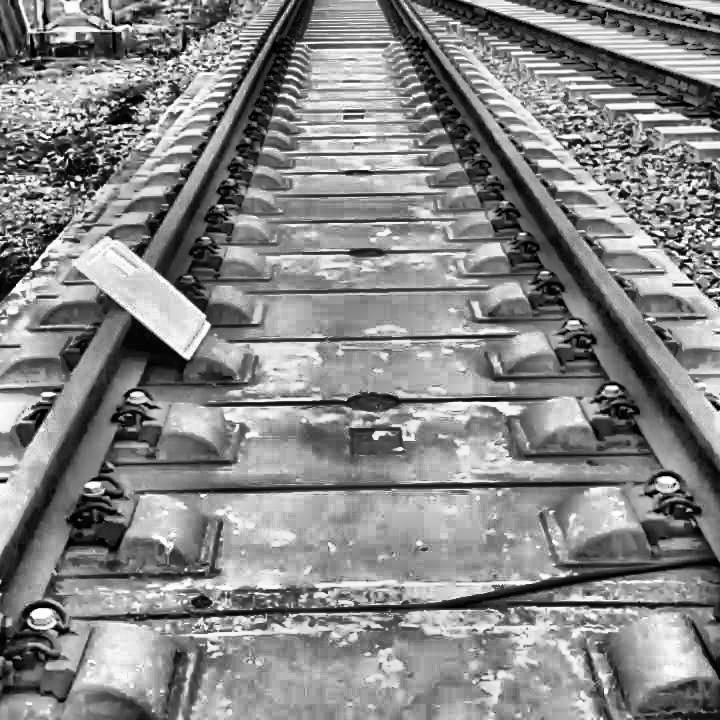Trash: (70, 227, 216, 364)
